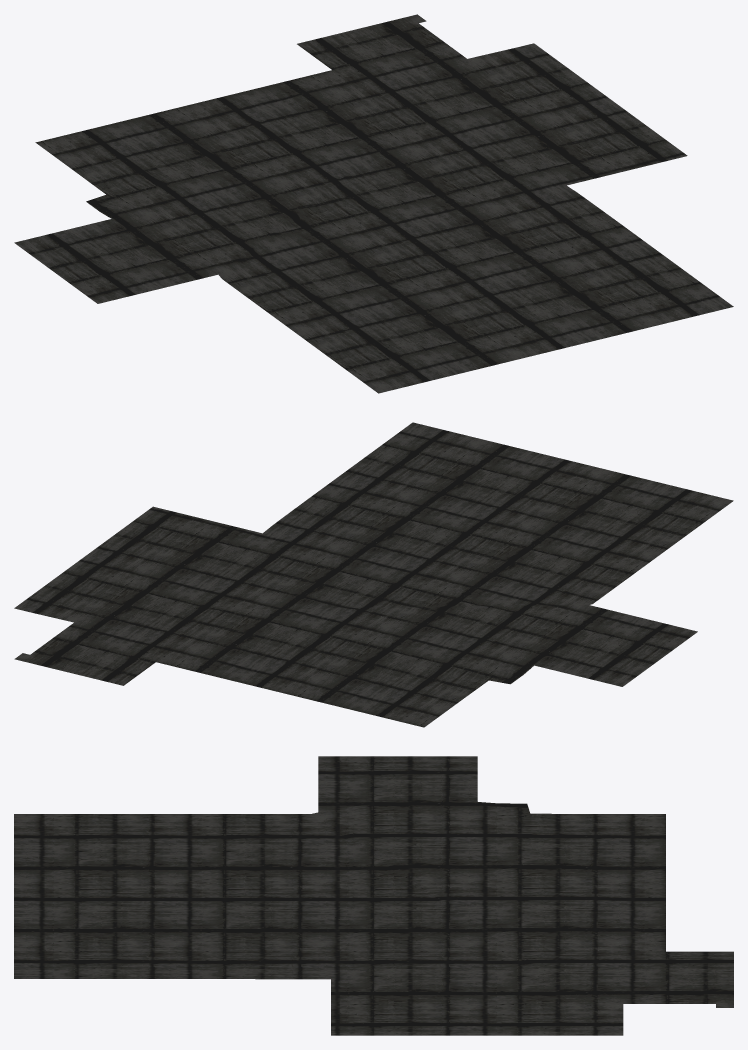
The model's file is pol.glb.
3 renders of one model, top to bottom at view 1: azimuth 30°, elevation 25°; view 2: azimuth 150°, elevation 25°; view 3: azimuth 270°, elevation 25°, orthographic. The views are drawn at different scales.
Visible parts, largest first — view 1: Cube.003; view 2: Cube.003; view 3: Cube.003.
Part boxes in pixels (x1,y1,x2,y2): Cube.003: [14, 14, 733, 393]; Cube.003: [14, 422, 733, 727]; Cube.003: [14, 756, 733, 1035].
Bounding box in the file's own units: 8.78 × 0.0333 × 9.65.
Materials: 1 (1 with a texture image).
